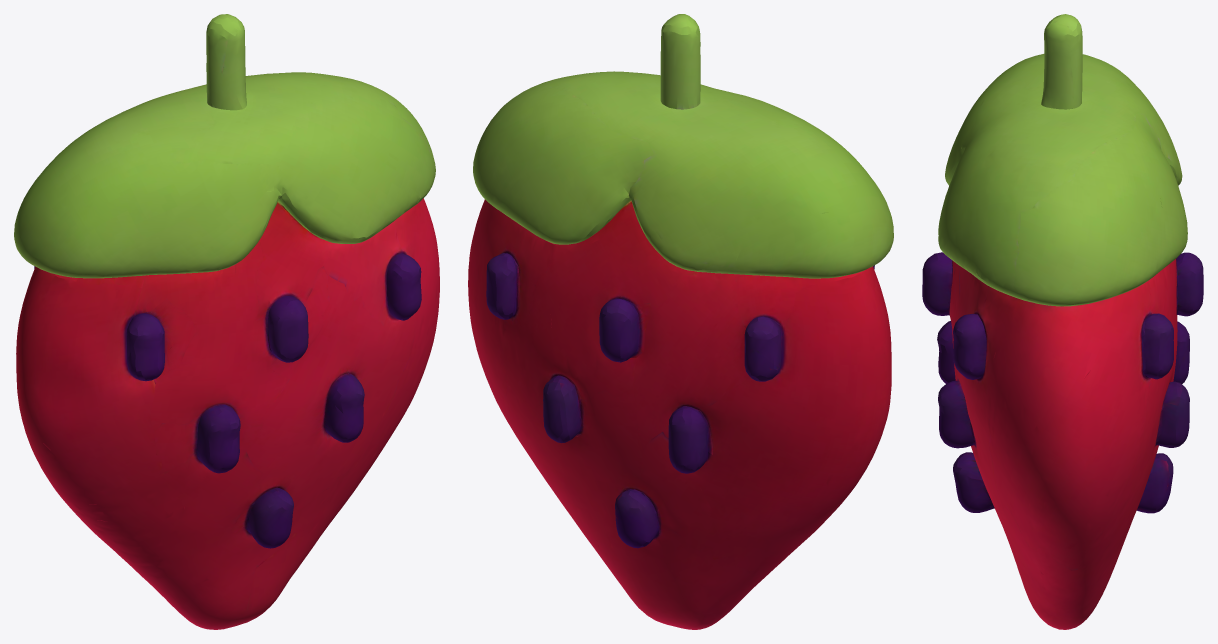
File: strawberry.glb
3 views of the same model, side by side, from view 1: azimuth 30°, elevation 25°; view 2: azimuth 150°, elevation 25°; view 3: azimuth 270°, elevation 25° (orthographic).
Visible parts, largest first — view 1: model; view 2: model; view 3: model.
Boxes of the visible parts, <box> form: model: <box>14,14,439,629</box>; model: <box>468,14,893,629</box>; model: <box>922,14,1203,629</box>.
Bounding box in the file's own units: 0.7076 × 1 × 0.4212.
Materials: 1 (1 with a texture image).
